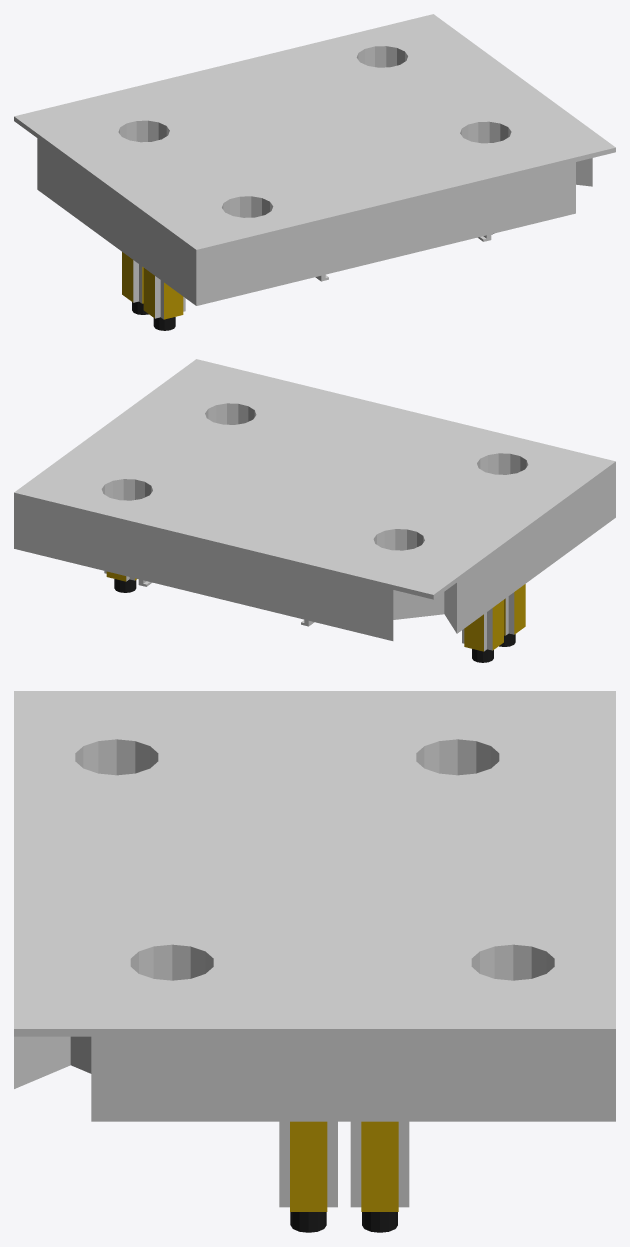
File: raw_base_short.dae
3 renders of one model, top to bottom at view 1: azimuth 30°, elevation 25°; view 2: azimuth 150°, elevation 25°; view 3: azimuth 270°, elevation 25°, orthographic. The views are drawn at different scales.
Parts seen in each view (by area): view 1: Raw_Base_Short; view 2: Raw_Base_Short; view 3: Raw_Base_Short.
Part boxes in pixels (x1,y1,x2,y2): Raw_Base_Short: (14, 14, 615, 330); Raw_Base_Short: (14, 359, 615, 662); Raw_Base_Short: (14, 691, 615, 1232).
Bounding box in the file's own units: 0.75 × 0.565 × 0.2365.
